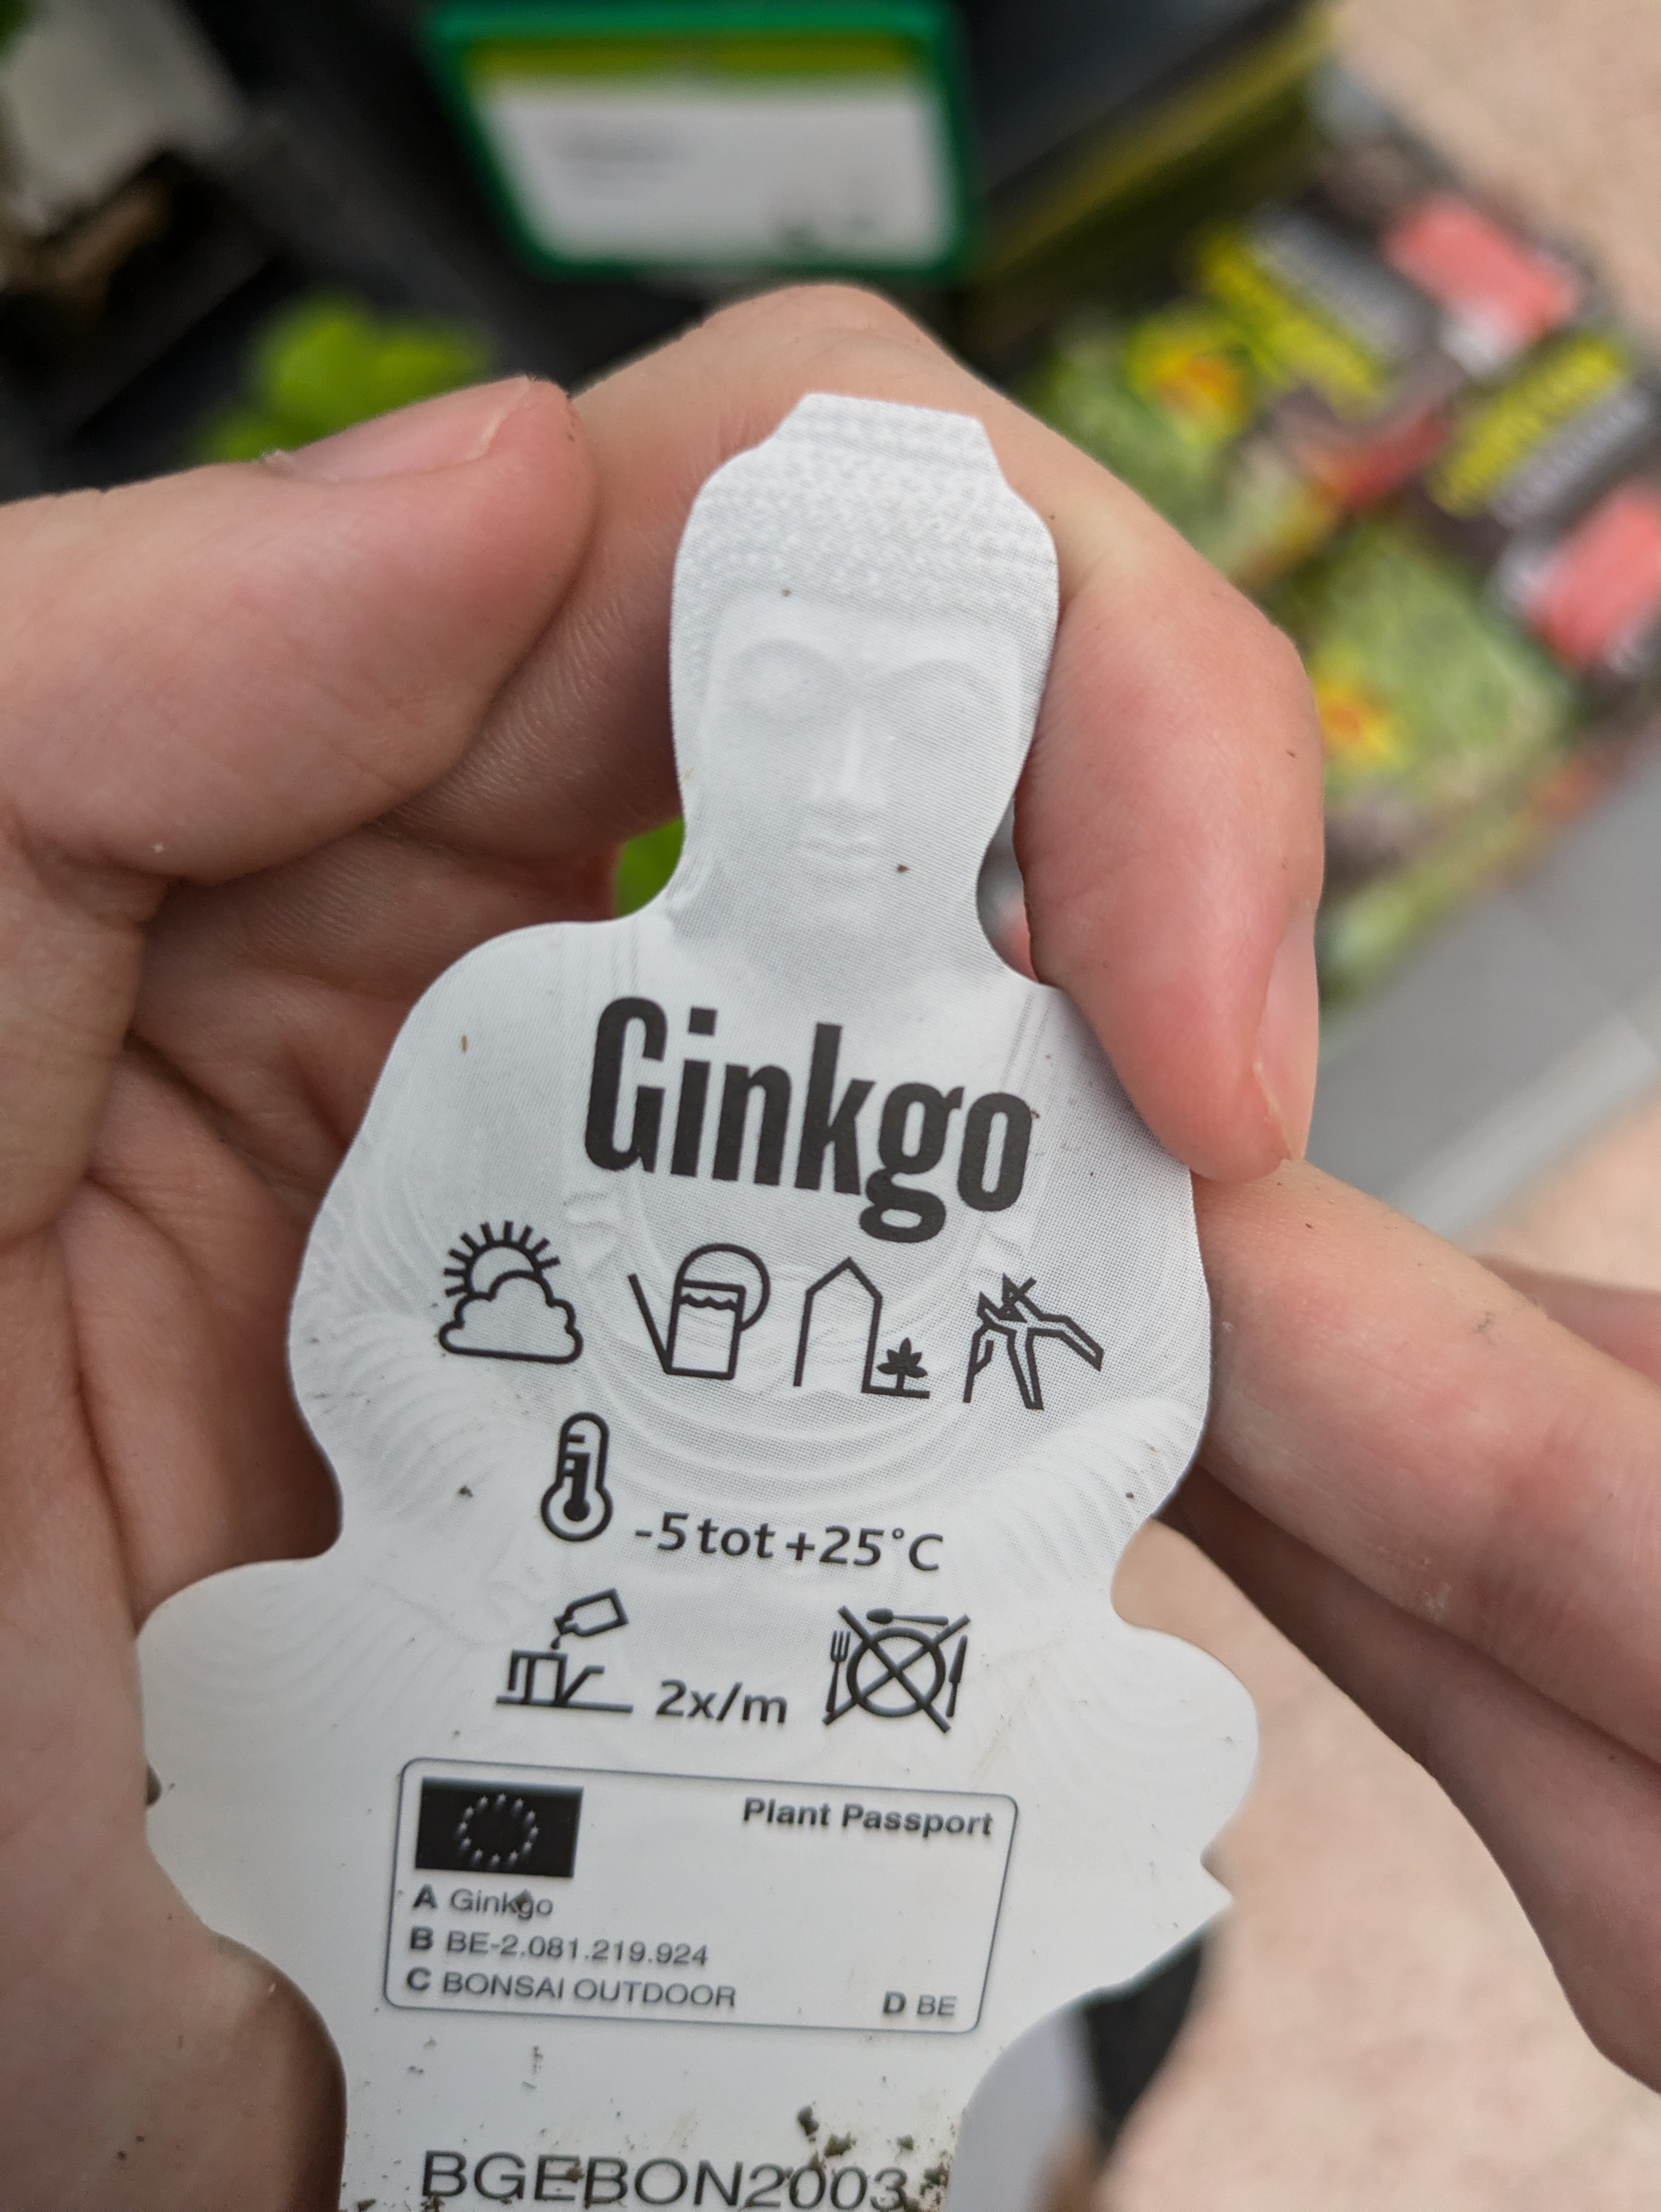halb sonnig: (420, 1204, 607, 1371)
oft gießen: (630, 1233, 776, 1390)
